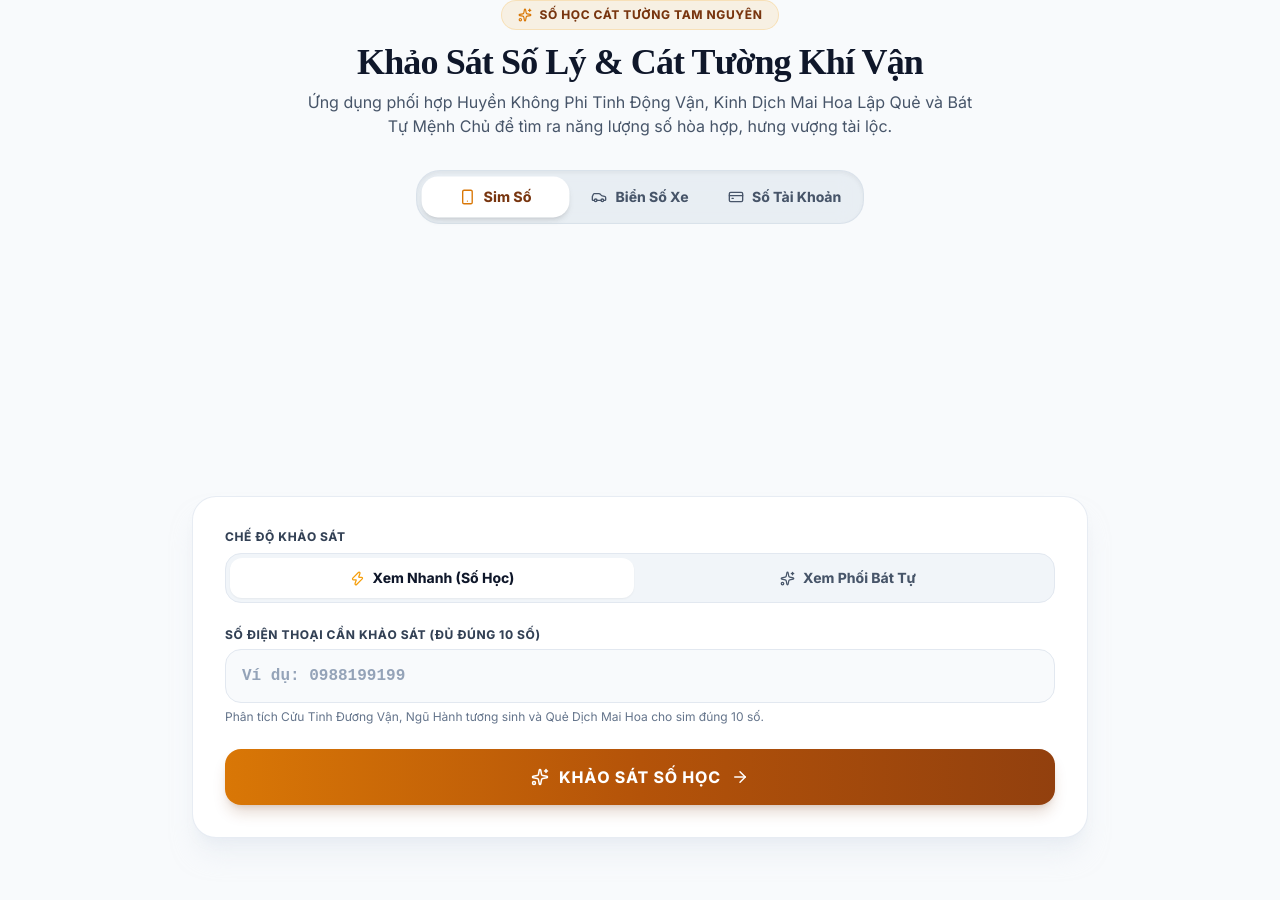
Test: NumerologyInput Component Tests › validates sim number length strictly (rejects < 10 digits)
The width and height of the screenshot is (1280, 900).
Type "098812345" into the field with placeholder "Ví dụ: 0988199199".
click(640, 676); type("098812345")  # box 225,649 -> 1055,703
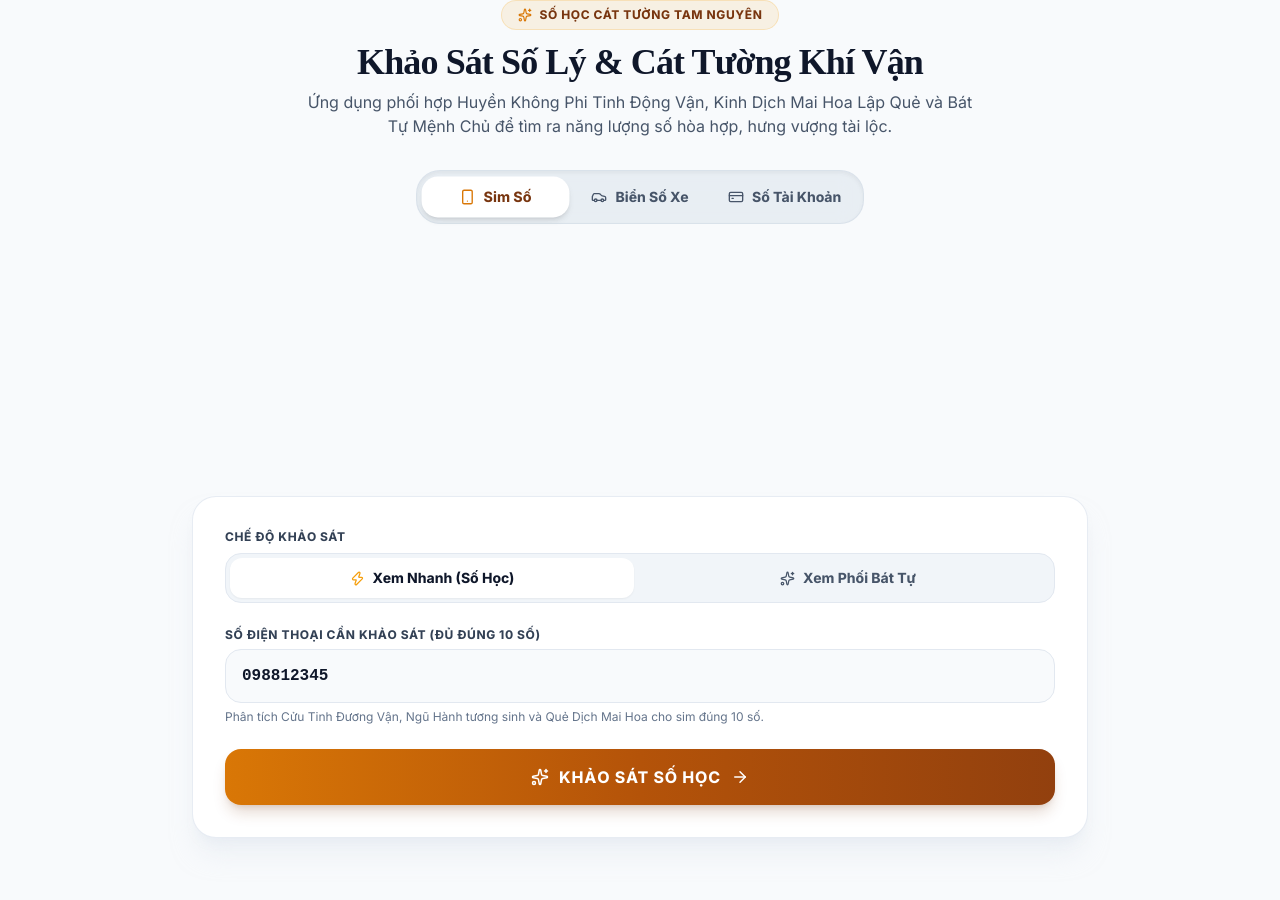
Click the button "Khảo Sát Số Học".
click(640, 777)  # box 225,749 -> 1055,805
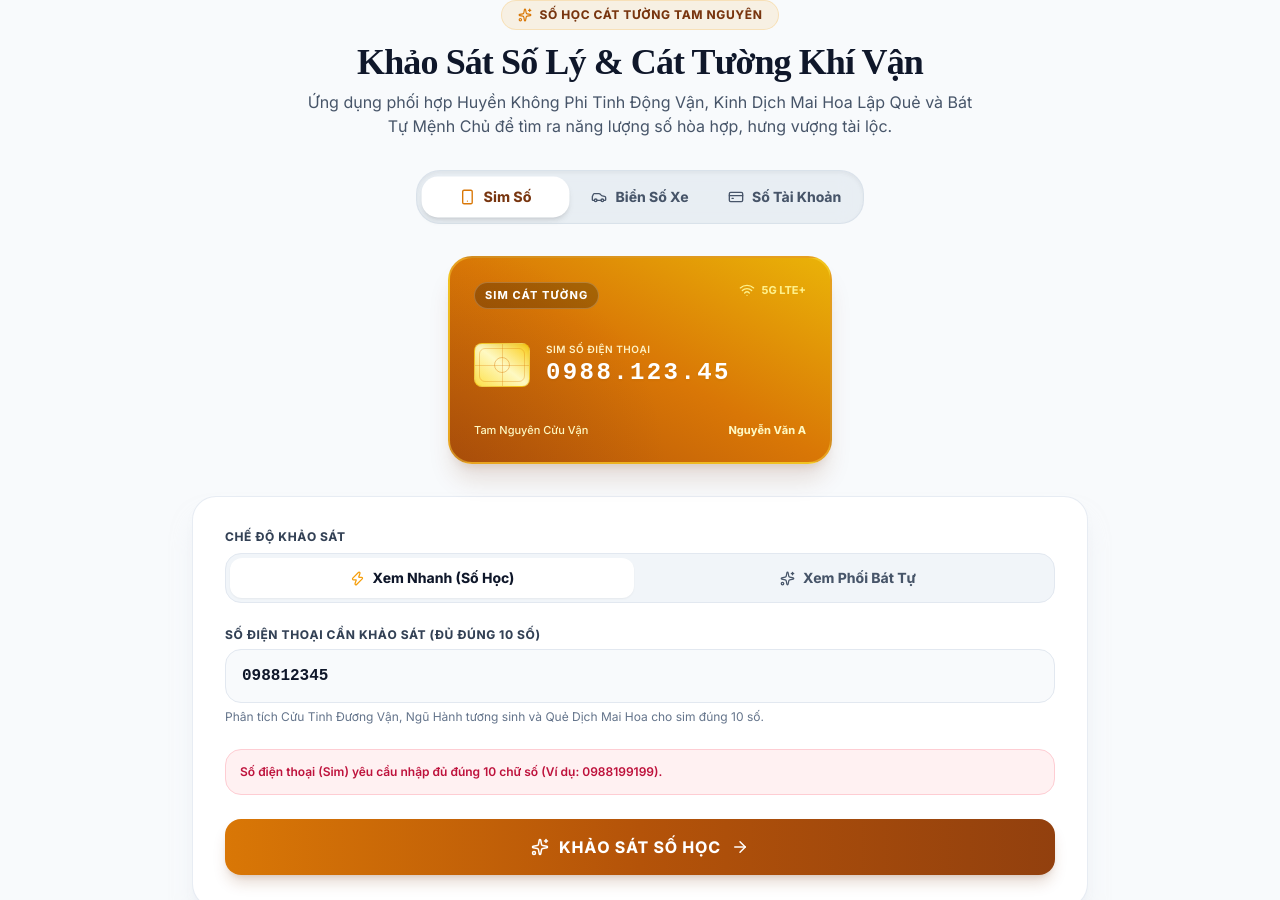
Check: the text "Số điện thoại (Sim) yêu cầu nhập đủ đúng 10 chữ số" is shown, box 240,764 -> 662,779
